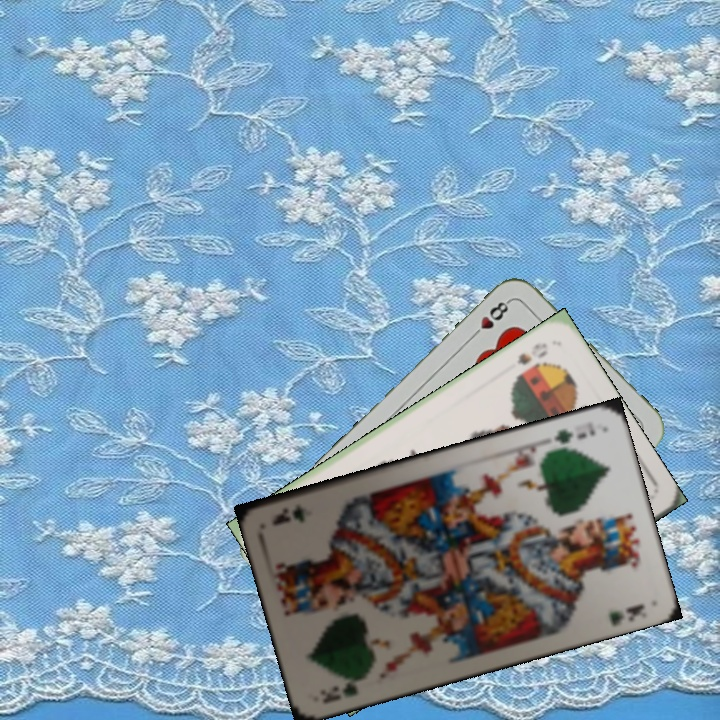GK: (550, 417, 598, 447), (318, 676, 361, 707)
H8: (467, 296, 513, 342)
SO: (513, 338, 551, 368)
